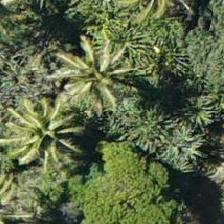coconut_tree: (48, 33, 138, 123), (2, 89, 92, 179)
